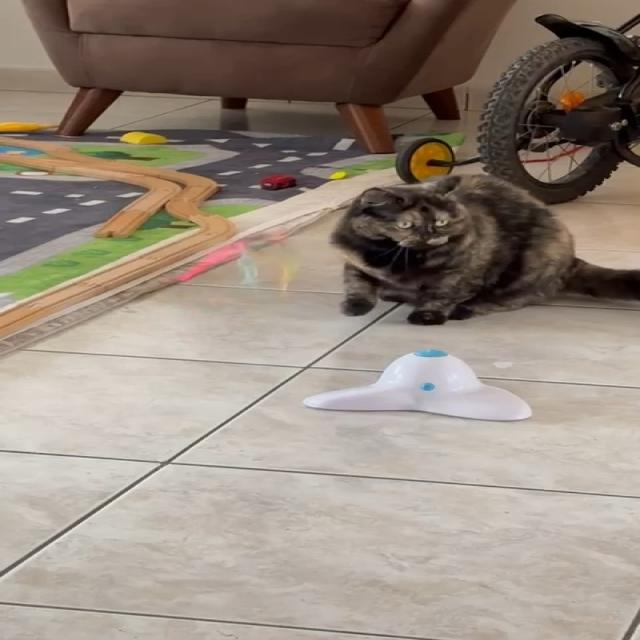authorized: (328, 173, 639, 325)
